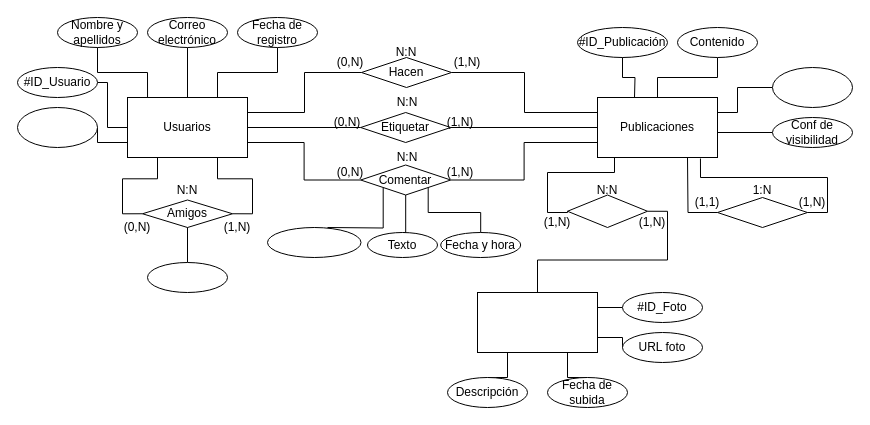
This 870x425 diagram has some shape labels left out. The shapes that lost their labels are listed below. From the top down, each one's centre as x and y in pixels, then its label:
At point 812,87: "Fecha y hora publicación".
At point 57,127: "Configuración de privacidad".
At point 607,211: "Tiene".
At point 762,212: "Autor".
At point 313,242: "#ID_comentario".
At point 187,277: "#Fecha de amistad".
At point 537,322: "Fotos".
